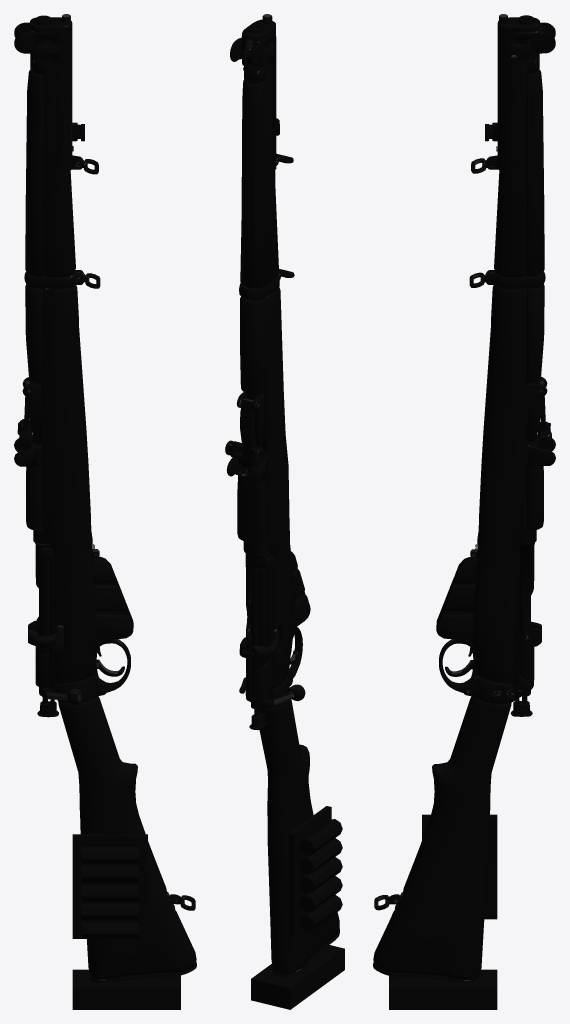
The model's file is LeeEnfieldNo4__RecoilPad_Rubber__ShellHolder_Butt.fbx.
The picture shows the model from 3 angles, left to right: view 1: azimuth 90°, elevation 25°; view 2: azimuth 150°, elevation 25°; view 3: azimuth 270°, elevation 25°; orthographic projection.
Parts seen in each view (by area): view 1: asset_LeeEnfieldNo4.001; view 2: asset_LeeEnfieldNo4.001; view 3: asset_LeeEnfieldNo4.001.
Boxes of the visible parts, x1,y1,x2,y2 form: asset_LeeEnfieldNo4.001: [14, 14, 196, 1009]; asset_LeeEnfieldNo4.001: [225, 14, 344, 1009]; asset_LeeEnfieldNo4.001: [373, 14, 555, 1009].
Bounding box in the file's own units: 0.0429 × 0.693 × 0.1167.
